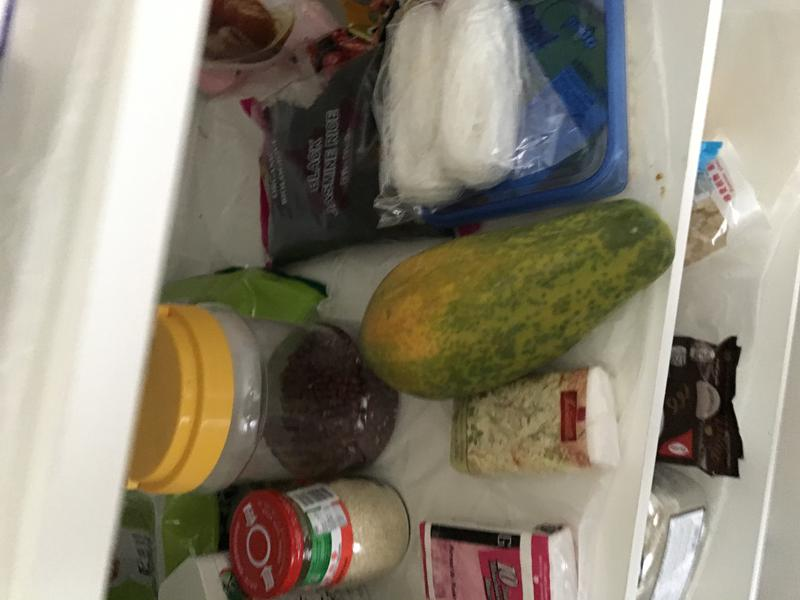papaya: (346, 191, 684, 408)
